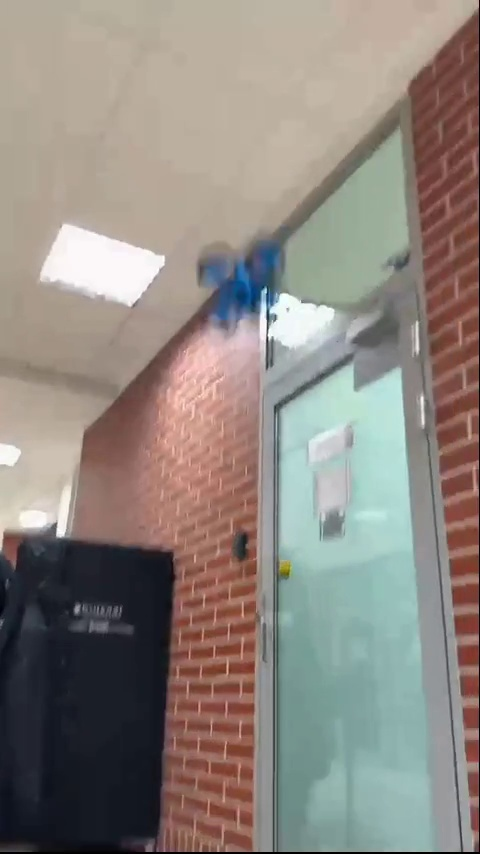drone: (197, 237, 295, 330)
